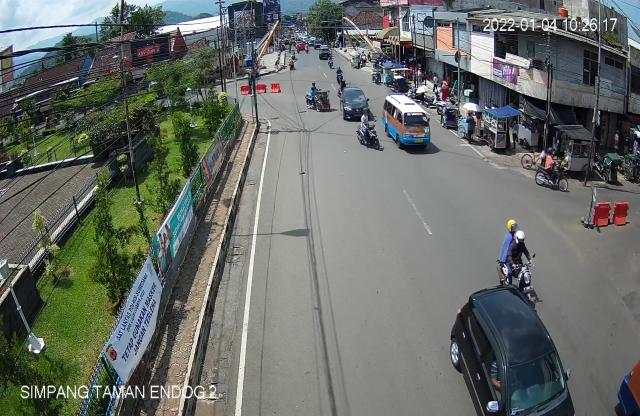Becak: (299, 78, 334, 120)
Mobil: (451, 282, 580, 416), (381, 92, 440, 157), (336, 82, 374, 119)
Motor: (495, 217, 537, 298), (532, 147, 574, 196), (353, 107, 386, 156)
